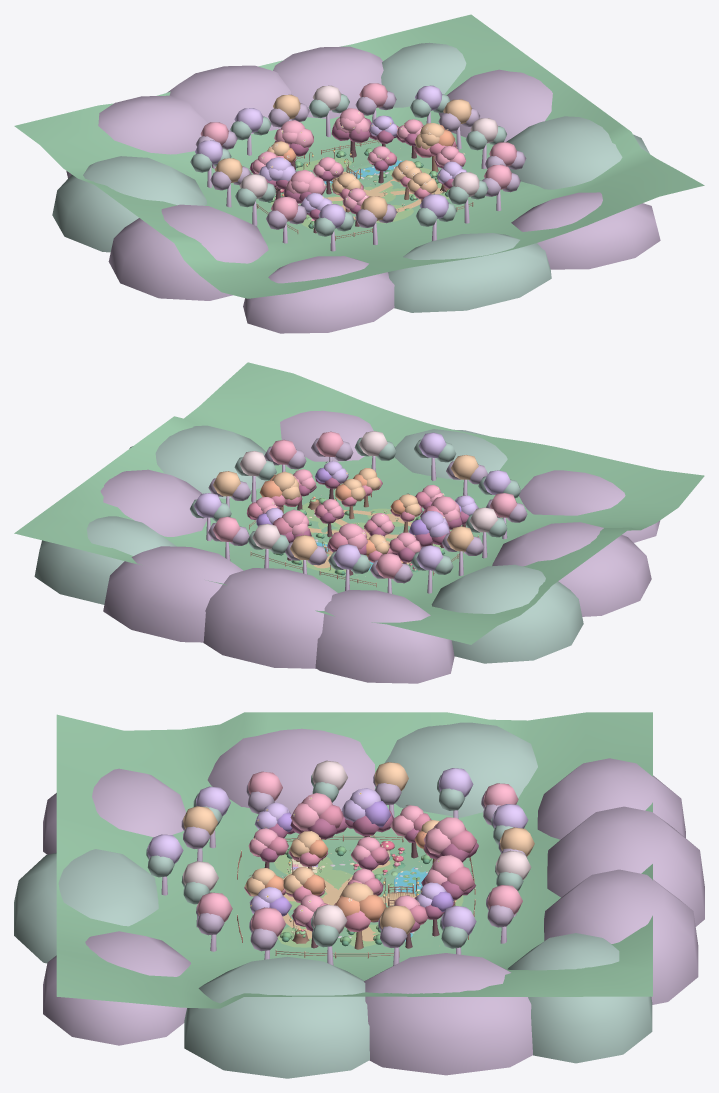
File: glade.glb
3 views of the same model, one above another, from view 1: azimuth 30°, elevation 25°; view 2: azimuth 150°, elevation 25°; view 3: azimuth 270°, elevation 25° (orthographic). The views are drawn at different scales.
Parts seen in each view (by area): view 1: Woodland | mist, Meadow | seafoam, Woodland | laurel, Blossom | shell, Blossom | wisteria, Blossom | creampeach, Blossom | silk, Blossom | mulberry, Meadow | dapple, Blossom | peony, Bark | hazel, Path | apricot; view 2: Woodland | mist, Meadow | seafoam, Woodland | laurel, Blossom | shell, Blossom | wisteria, Blossom | creampeach, Blossom | silk, Blossom | peony, Blossom | mulberry, Blossom | peach, Meadow | dapple, Bark | hazel (+2 smaller); view 3: Woodland | mist, Meadow | seafoam, Woodland | laurel, Blossom | shell, Blossom | wisteria, Blossom | creampeach, Blossom | peony, Blossom | mulberry, Blossom | silk, Blossom | peach, Meadow | dapple, Bark | hazel (+2 smaller).
Boxes of the visible parts, x1,y1,x2,y2 form: Woodland | mist: (66,46,660,333); Meadow | seafoam: (14,14,704,298); Woodland | laurel: (52,42,649,312); Blossom | shell: (200,83,516,221); Blossom | wisteria: (195,85,466,228); Blossom | creampeach: (214,94,471,220); Blossom | silk: (239,85,498,206); Blossom | mulberry: (249,118,453,219); Meadow | dapple: (270,158,449,228); Blossom | peony: (275,112,458,199); Bark | hazel: (251,139,473,240); Path | apricot: (317,163,442,219); Woodland | mist: (100,410,660,683); Meadow | seafoam: (14,362,704,644); Woodland | laurel: (34,425,583,663); Blossom | shell: (213,431,516,578); Blossom | wisteria: (194,432,510,570); Blossom | creampeach: (213,455,478,560); Blossom | silk: (239,431,498,576); Blossom | peony: (247,475,443,568); Blossom | mulberry: (246,476,469,562); Blossom | peach: (259,474,404,556); Meadow | dapple: (300,502,450,573); Bark | hazel: (249,488,478,587); Woodland | mist: (43,728,704,1075); Meadow | seafoam: (56,712,652,1008); Woodland | laurel: (14,722,652,1078); Blossom | shell: (197,771,522,936); Blossom | wisteria: (147,768,528,935); Blossom | creampeach: (183,762,534,939); Blossom | peony: (244,805,476,931); Blossom | mulberry: (253,810,478,932); Blossom | silk: (183,760,531,933); Blossom | peach: (265,831,426,921); Meadow | dapple: (274,854,463,947); Bark | hazel: (237,835,475,958).
Size of the model in its own units: 79.61 by 9.91 by 71.85.
